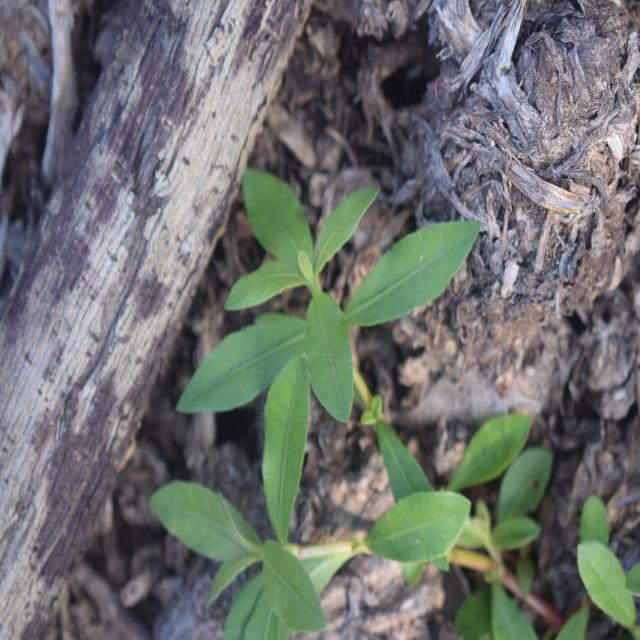Alligatorweed: (195, 128, 458, 506), (155, 405, 441, 635)
